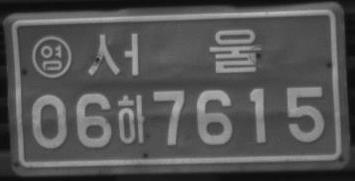0: (30, 93, 67, 150)
1: (242, 86, 277, 143)
5: (285, 85, 325, 145)
6: (195, 88, 234, 146), (75, 91, 112, 149)
7: (152, 88, 185, 146)
서울_D: (86, 28, 261, 76)
영: (31, 35, 71, 79)
하: (118, 94, 145, 144)
